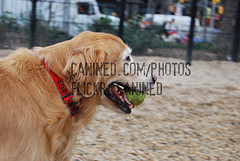tennis ball: (122, 85, 149, 107)
